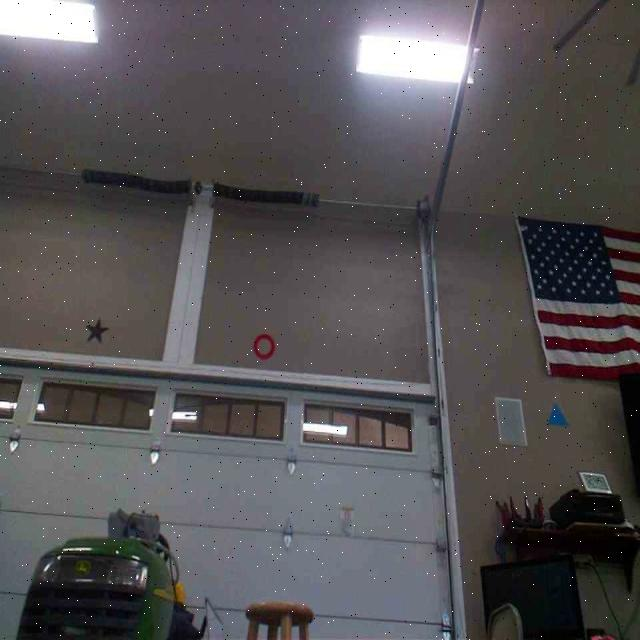ring_red: (252, 333, 274, 359)
star_black: (85, 316, 108, 343)
triangle_blue: (546, 400, 569, 426)
